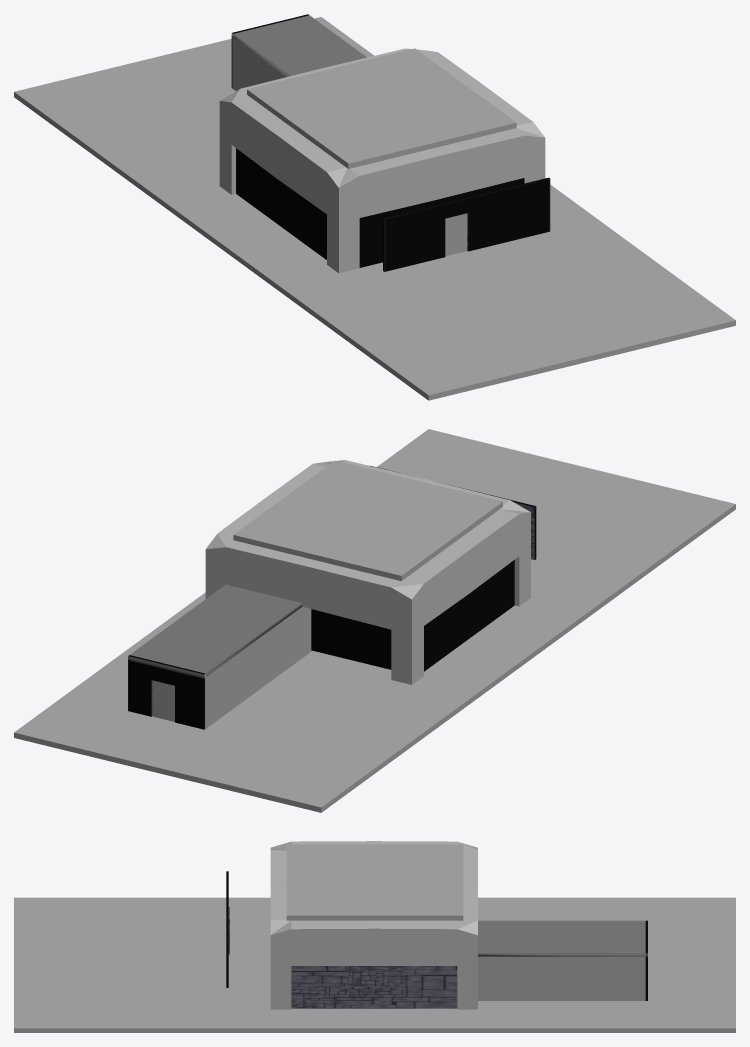
The model's file is TowerFloor2.fbx.
3 views of the same model, one above another, from view 1: azimuth 30°, elevation 25°; view 2: azimuth 150°, elevation 25°; view 3: azimuth 270°, elevation 25° (orthographic). The views are drawn at different scales.
Parts seen in each view (by area): view 1: TowerFloor1:Floor, Posts, Floor, Wall7, Wall9, Wall5, Wall1, pCube83, pCube76; view 2: TowerFloor1:Floor, Posts, Floor, Wall9, Wall5, Wall8, pCube83, pCube79, pCube84; view 3: TowerFloor1:Floor, Posts, Floor, Wall6, Wall9, pCube82, pCube81, Wall7.
Boxes of the visible parts, x1=… form: TowerFloor1:Floor: x1=14, y1=17, x2=735, y2=400; Posts: x1=219, y1=48, x2=545, y2=273; Floor: x1=247, y1=48, x2=516, y2=168; Wall7: x1=383, y1=177, x2=550, y2=271; Wall9: x1=231, y1=14, x2=366, y2=87; Wall5: x1=236, y1=148, x2=326, y2=259; Wall1: x1=359, y1=178, x2=524, y2=267; pCube83: x1=232, y1=37, x2=284, y2=90; pCube76: x1=445, y1=213, x2=467, y2=256; TowerFloor1:Floor: x1=14, y1=429, x2=735, y2=812; Posts: x1=205, y1=460, x2=530, y2=684; Floor: x1=233, y1=460, x2=502, y2=581; Wall9: x1=128, y1=584, x2=302, y2=729; Wall5: x1=424, y1=560, x2=514, y2=671; Wall8: x1=311, y1=609, x2=391, y2=669; pCube83: x1=205, y1=639, x2=258, y2=729; pCube79: x1=258, y1=607, x2=311, y2=690; pCube84: x1=153, y1=680, x2=174, y2=721; TowerFloor1:Floor: x1=14, y1=897, x2=735, y2=1032; Posts: x1=270, y1=841, x2=477, y2=1009; Floor: x1=286, y1=844, x2=463, y2=920; Wall6: x1=291, y1=966, x2=457, y2=1008; Wall9: x1=478, y1=920, x2=647, y2=1000; pCube82: x1=554, y1=956, x2=645, y2=1000; pCube81: x1=478, y1=956, x2=554, y2=1000; Wall7: x1=226, y1=871, x2=229, y2=987.
Size of the model in its own units: 840 by 278 by 1962.
